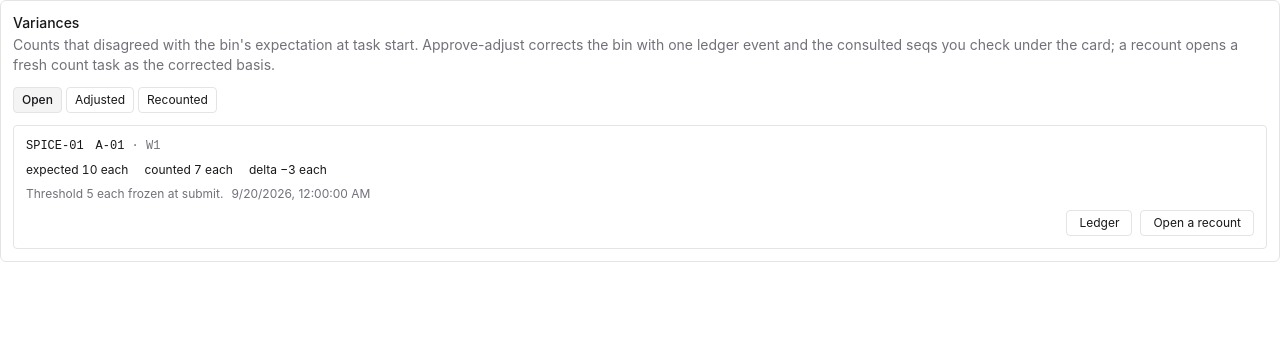
Scenario: VarianceQueue: the resolve flow (story 5-5) › a 409 variance-resolved renders the refresh copy AND re-reads the queue
This screenshot has width=1280, height=351.
Click the button "Open a recount".
click(1197, 223)  # box 1140,210 -> 1254,236
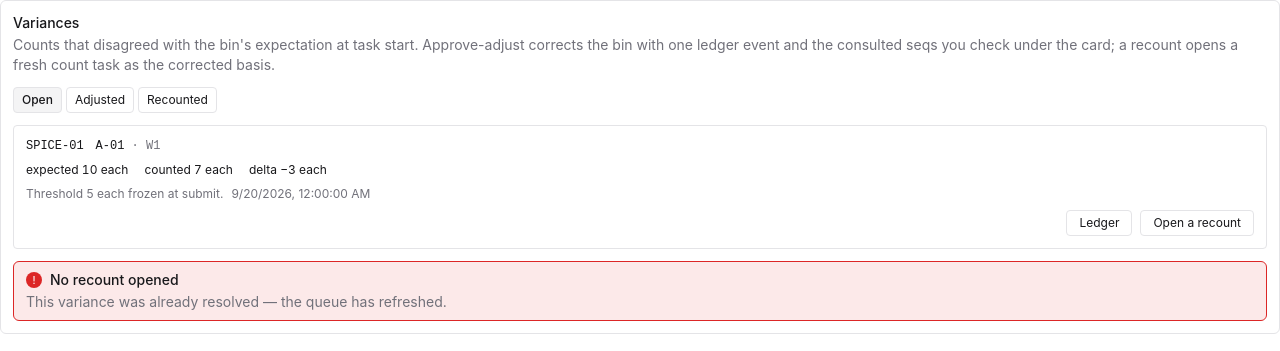
Now the text "No recount opened" is shown, box 50,271 -> 179,288
Now the text "queue has refreshed" is shown, box 26,293 -> 447,310
